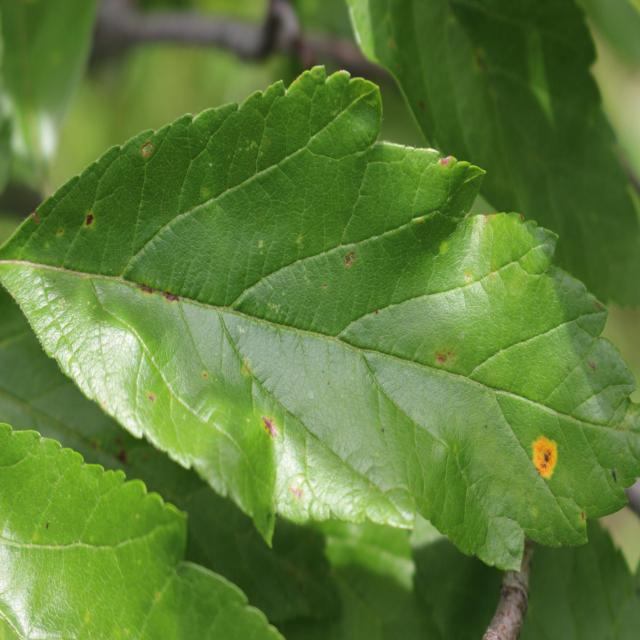Rust: (532, 421, 567, 505)
